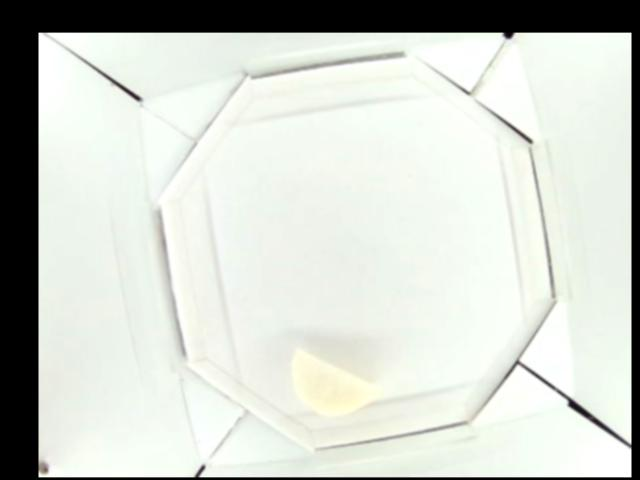Mooli: (286, 348, 379, 418)
